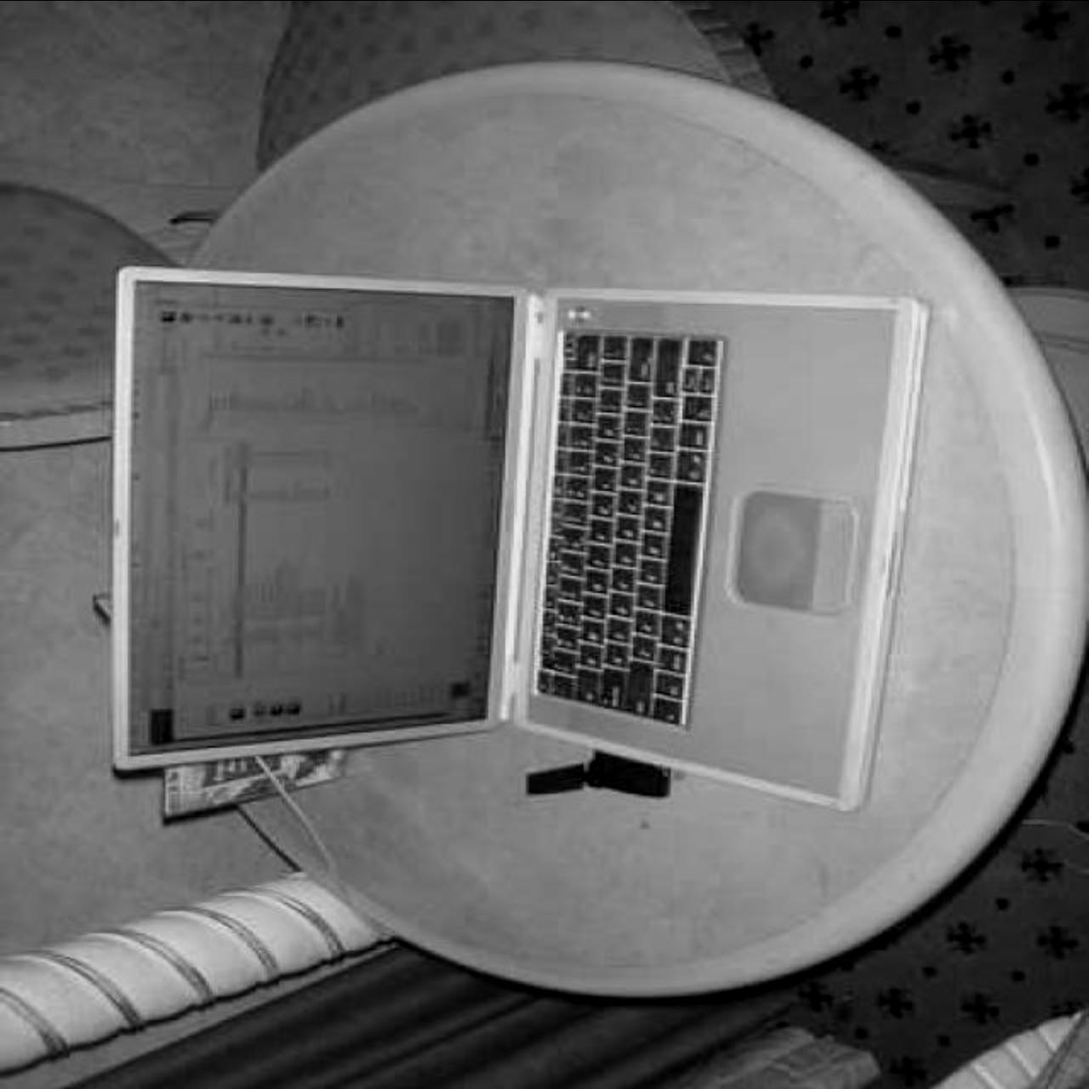laptop: (100, 248, 1026, 817)
